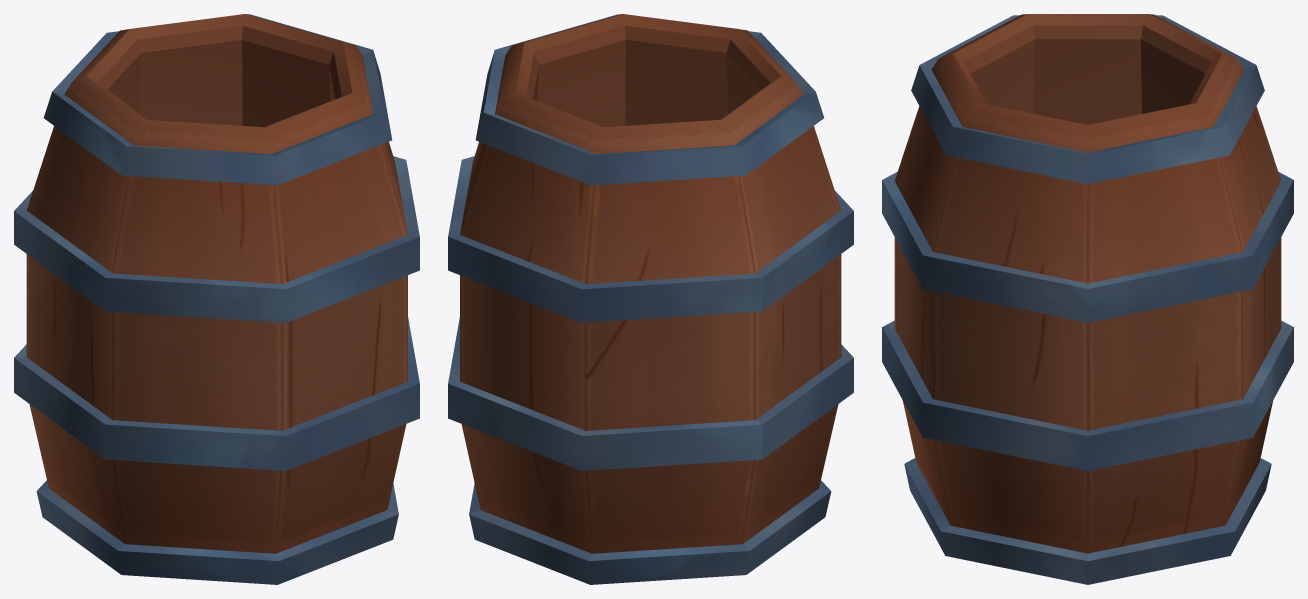
Rendered from barril.fbx.
3 renders of one model, left to right at view 1: azimuth 30°, elevation 25°; view 2: azimuth 150°, elevation 25°; view 3: azimuth 270°, elevation 25°, orthographic.
Visible parts, largest first — view 1: Cylinder012; view 2: Cylinder012; view 3: Cylinder012.
Part boxes in pixels (box(x1,y1,x2,y2)): Cylinder012: box(14, 14, 419, 584); Cylinder012: box(448, 14, 853, 584); Cylinder012: box(882, 14, 1293, 584).
Size of the model in its own units: 69.67 by 84.5 by 71.46.
